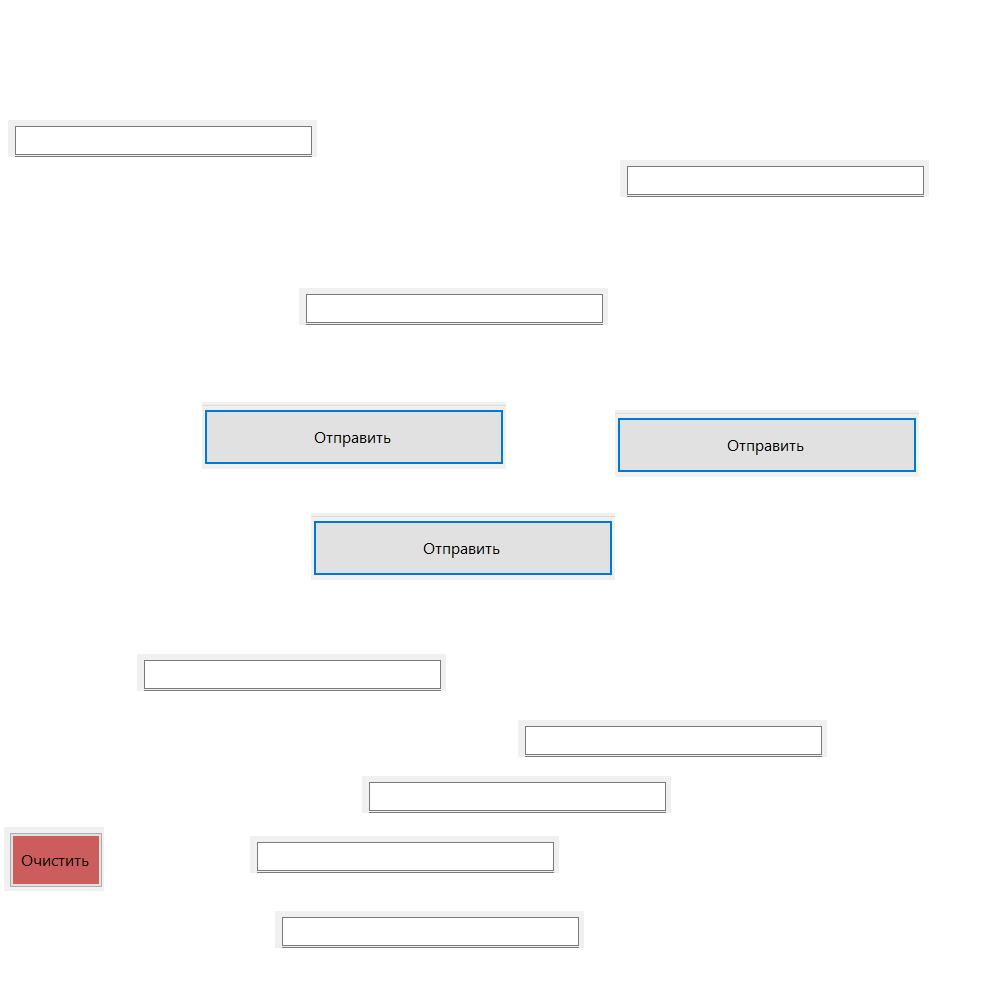Button: (202, 402, 506, 469), (311, 513, 615, 580), (615, 410, 919, 477), (4, 827, 104, 891)
EditText-: (250, 836, 559, 873), (362, 776, 671, 813), (137, 654, 446, 691), (275, 911, 584, 948), (518, 720, 827, 757), (620, 160, 929, 197), (299, 288, 608, 325), (8, 120, 317, 157)
